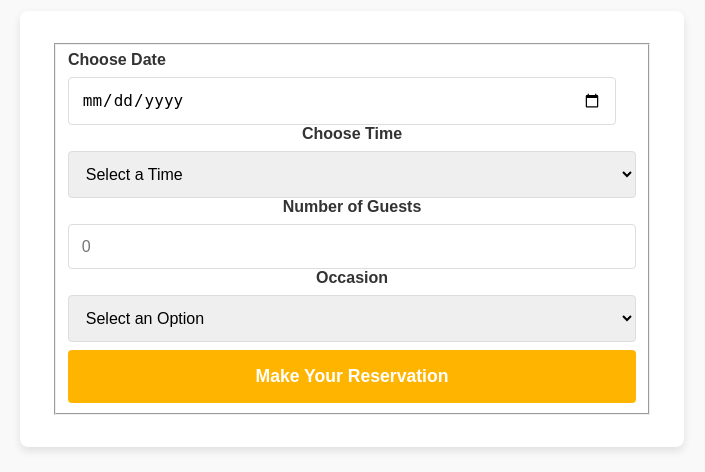
BookingForm Component › allows user to fill out the form
// Fill out the form
Type "2024-12-25" into the date field labelled "Choose Date" at (342, 101), box [68,77,616,125]
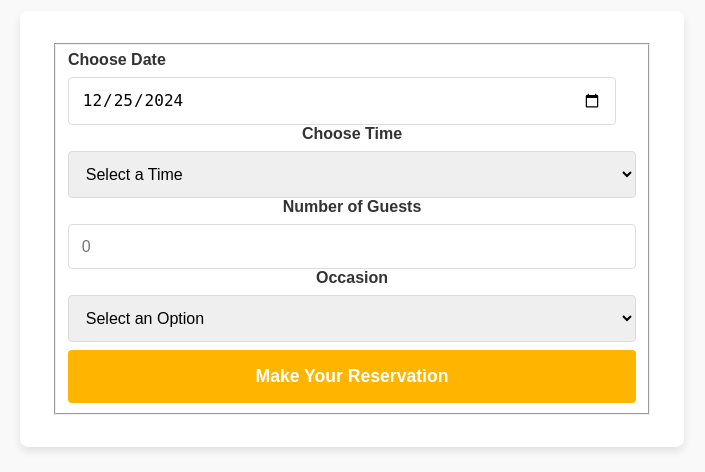
Select "1:00 PM" in the dropdown labelled "Choose Time" at (352, 174), box [68,151,636,198]
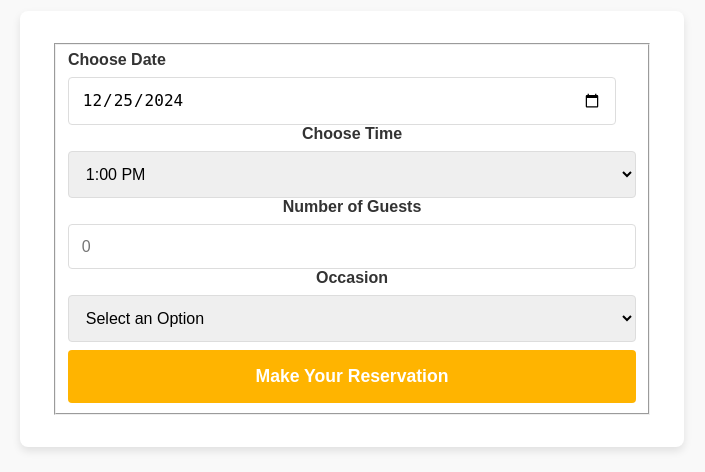
Type "4" into the number field labelled "Number of Guests" at (352, 247), box [68,224,636,269]
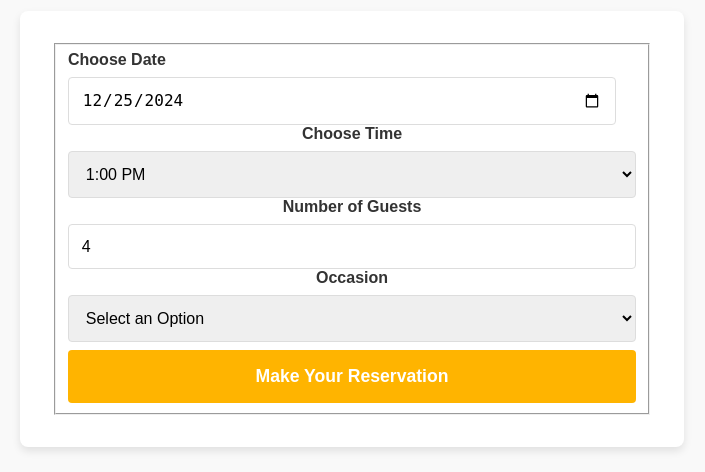
Select "Birthday" in the dropdown labelled "Occasion" at (352, 319), box [68,295,636,342]
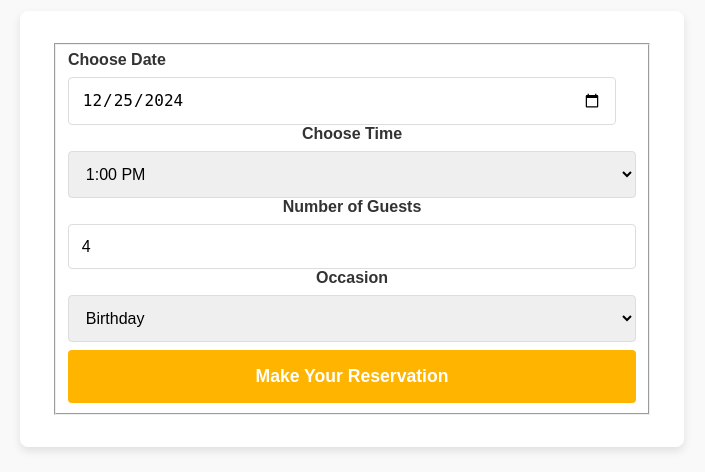
Expected: the dropdown labelled "Occasion" shows "Birthday", [68,295,636,342]
